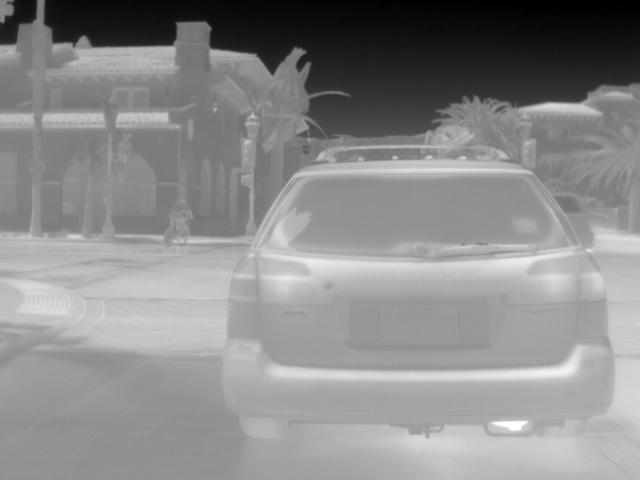car: (220, 155, 616, 437), (548, 192, 597, 251)
person: (161, 200, 195, 239)
